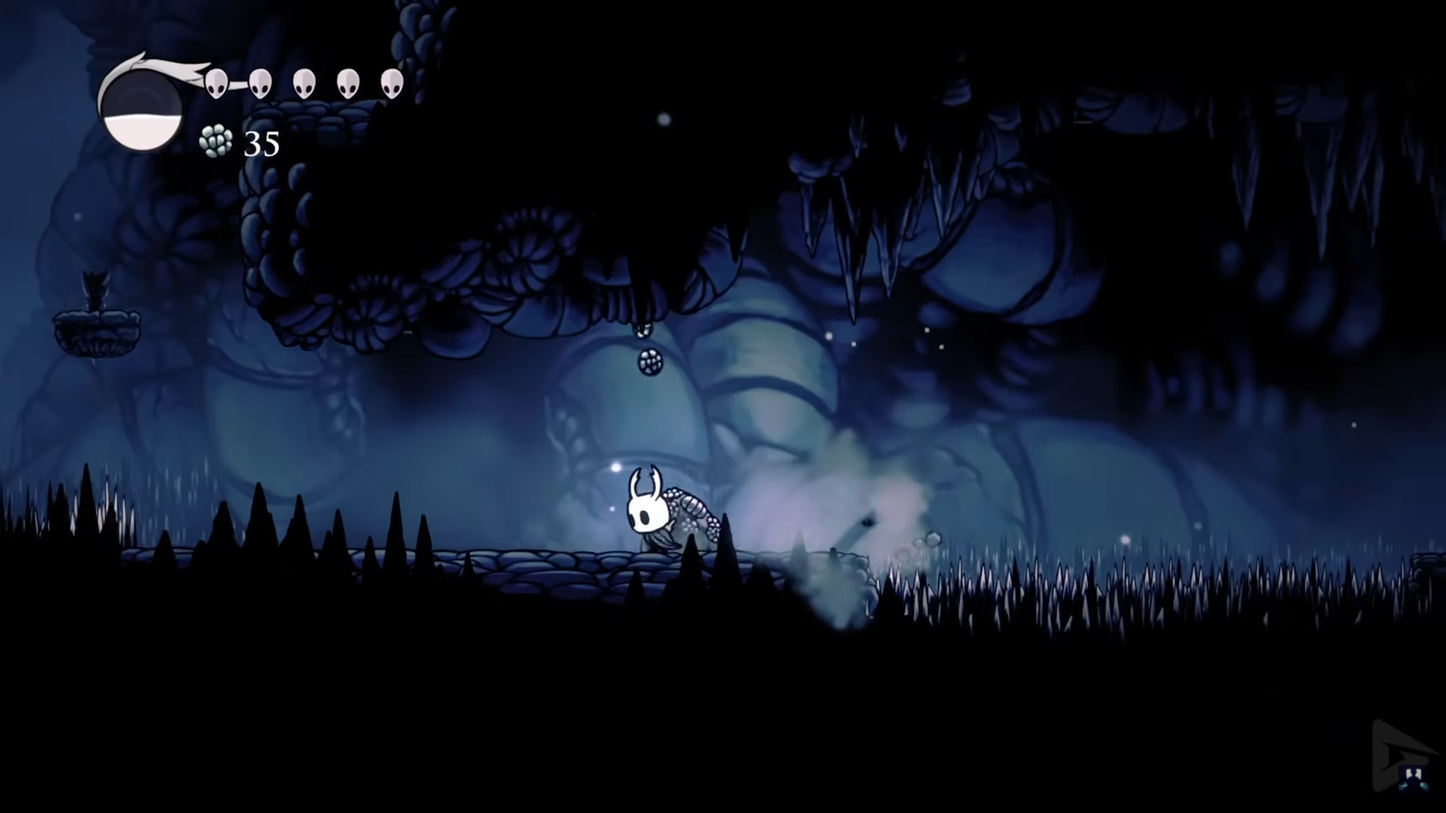HK: (624, 461, 674, 554)
